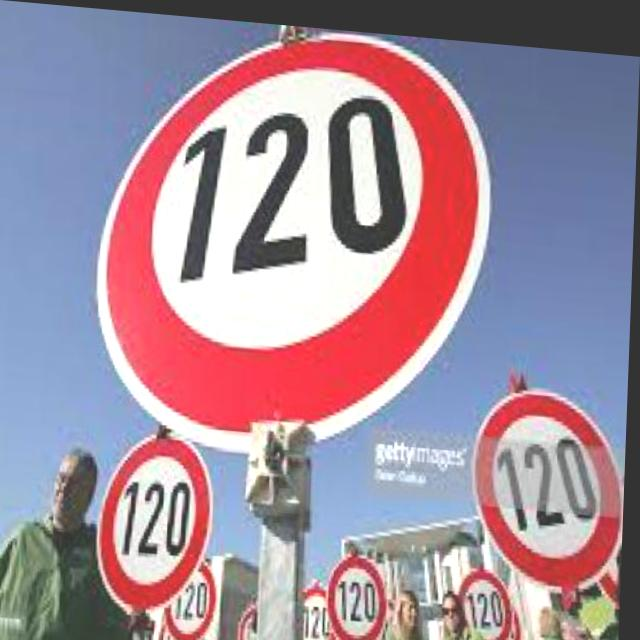limit120: (84, 7, 500, 462), (463, 374, 630, 592), (94, 426, 218, 616), (317, 538, 400, 640), (450, 561, 523, 640)
